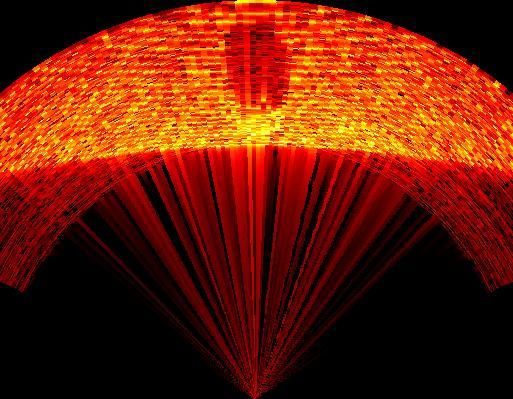box_crate: (227, 26, 292, 140)
